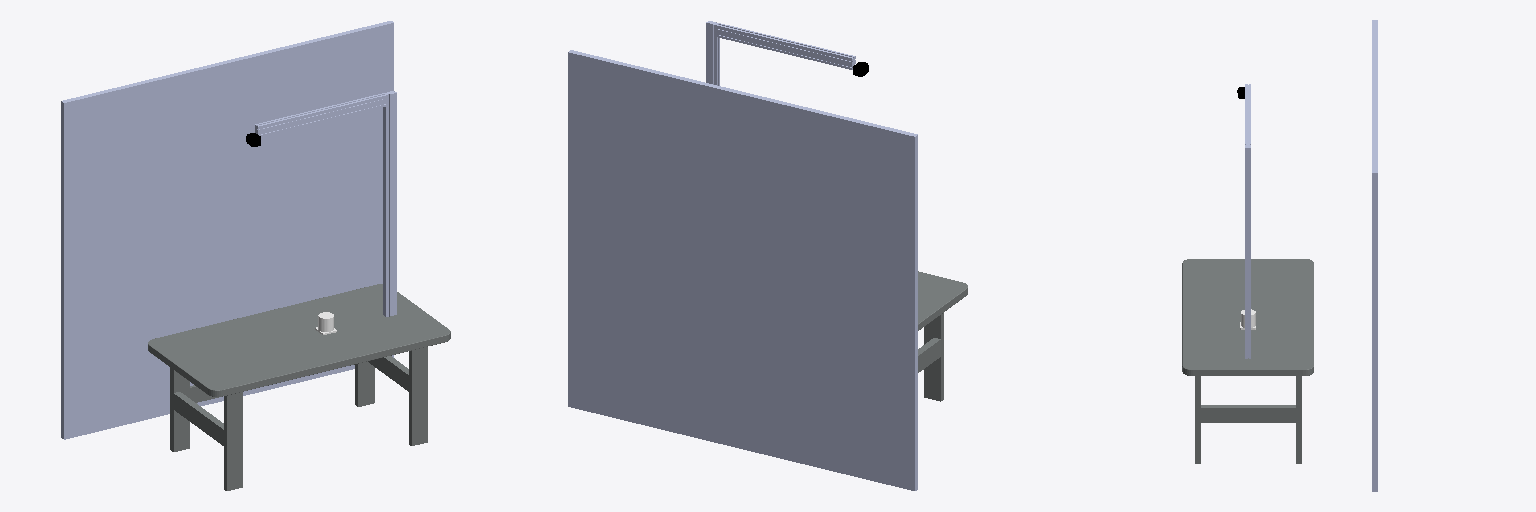
The robot description file, URDF, robot "stand_alone_arm":
<robot
  name="stand_alone_arm">
  
<link name="world" />

  <link
    name="base_link">
    <inertial>
      <origin
        xyz="3.33066907387547E-16 0.669683979678505 -0.0124306420707494"
        rpy="1.5708 0 0" />
      <mass
        value="858.041961090524" />
      <inertia
        ixx="95.273734367112"
        ixy="1.68979319427503E-13"
        ixz="9.07122406083939E-15"
        iyy="340.274147568561"
        iyz="3.19643307330068"
        izz="305.046621365407" />
    </inertial>
    <visual>
      <origin
        xyz="0 0 0"
        rpy="0 0 0" />
      <geometry>
        <mesh
          filename="package://fetch_description/meshes/table_link.DAE" />
      </geometry>
      <material
        name="">
        <color
          rgba="0.529411764705882 0.549019607843137 0.549019607843137 1" />
      </material>
    </visual>
    <collision>
      <origin
        xyz="0 0 0"
        rpy="0 0 0" />
      <geometry>
        <mesh
          filename="package://fetch_description/meshes/table_link.STL" />
      </geometry>
    </collision>
  </link>

  <joint
    name="table_joint"
    type="fixed">
    <origin
      xyz="0 0 0"
      rpy="1.5708 0 0" />
    <parent
      link="world" />
    <child
      link="base_link" />
    <axis
      xyz="0 0 0" />
  </joint>

  <link
    name="stand_alone_base_link">
    <inertial>
      <origin
        xyz="0 0 -0.105150405821854"
        rpy="0 0 0" />
      <mass
        value="2.63878043891333" />
      <inertia
        ixx="0.00472313159089556"
        ixy="6.11678055813915E-20"
        ixz="5.52853966202781E-19"
        iyy="0.00472313159089556"
        iyz="2.17976604623059E-19"
        izz="0.00382379229994236" />
    </inertial>
    <visual>
      <origin
        xyz="0 0 0"
        rpy="0 0 0" />
      <geometry>
        <mesh
          filename="package://fetch_description/meshes/stand_alone_base_link.STL" />
      </geometry>
      <material
        name="">
        <color
          rgba="1 1 1 1" />
      </material>
    </visual>
    <collision>
      <origin
        xyz="0 0 0"
        rpy="0 0 0" />
      <geometry>
        <mesh
          filename="package://fetch_description/meshes/stand_alone_base_link.STL" />
      </geometry>
    </collision>
  </link>

  <joint
    name="stand_alone_base_joint"
    type="fixed">
    <origin
      xyz="0.203950000000001 0 0.948"
      rpy="0 0 -1.5708" />
    <parent
      link="world" />
    <child
      link="stand_alone_base_link" />
    <axis
      xyz="0 0 0" />
  </joint>

 <link name="shoulder_pan_link">
    <inertial>
      <origin rpy="0.6737277 -030216635 0.04986231" xyz="0 0 0" />
      <mass value="2.5587" />
      <inertia ixx="0.0043" ixy="-0.0001" ixz="0.001" iyy="0.0087" iyz="-0.0001" izz="0.0087" />
    </inertial>
    <visual>
      <origin rpy="0 0 0" xyz="0 0 0" />
      <geometry>
        <mesh filename="package://fetch_description/meshes/shoulder_pan_link.dae" />
      </geometry>
      <material name="">
        <color rgba="1 1 1 1" />
      </material>
    </visual>
    <collision>
      <origin rpy="0 0 0" xyz="0 0 0" />
      <geometry>
        <mesh filename="package://fetch_description/meshes/shoulder_pan_link_collision.STL" />
      </geometry>
    </collision>
  </link>
  
<joint name="shoulder_pan_joint" type="revolute">
    <origin rpy="0 0 -1.5708" xyz="0 0 0" />
    <parent link="stand_alone_base_link" />
    <child link="shoulder_pan_link" />
    <axis xyz="0 0 1" />
    <dynamics damping="1.0" />
    <limit effort="33.82" lower="-1.6056" upper="1.6056" velocity="1.256" />
</joint>


 <link name="shoulder_lift_link">
    <inertial>
      <origin rpy="0 0 0" xyz="0.1432 0.0072 -0.0001" />
      <mass value="2.6615" />
      <inertia ixx="0.0028" ixy="-0.0021" ixz="-0.0" iyy="0.0111" iyz="-0.0" izz="0.0112" />
    </inertial>
    <visual>
      <origin rpy="0 0 0" xyz="0 0 0" />
      <geometry>
        <mesh filename="package://fetch_description/meshes/shoulder_lift_link.dae" />
      </geometry>
      <material name="">
        <color rgba="0.086 0.506 0.767 1" />
      </material>
    </visual>
    <collision>
      <origin rpy="0 0 0" xyz="0 0 0" />
      <geometry>
        <mesh filename="package://fetch_description/meshes/shoulder_lift_link_collision.STL" />
      </geometry>
    </collision>
  </link>

  <joint name="shoulder_lift_joint" type="revolute">
    <origin rpy="0 0 0" xyz="0.117 0 0.0599999999999999" />
    <parent link="shoulder_pan_link" />
    <child link="shoulder_lift_link" />
    <axis xyz="0 1 0" />
    <dynamics damping="1.0" />
    <limit effort="131.76" lower="-1.221" upper="1.518" velocity="1.454" />
  </joint>
  <link name="upperarm_roll_link">
    <inertial>
      <origin rpy="0 0 0" xyz="0.1165 0.0014 0.0000" />
      <mass value="2.3311" />
      <inertia ixx="0.0019" ixy="-0.0001" ixz="0.0" iyy="0.0045" iyz="0.0" izz="0.0047" />
    </inertial>
    <visual>
      <origin rpy="0 0 0" xyz="0 0 0" />
      <geometry>
        <mesh filename="package://fetch_description/meshes/upperarm_roll_link.dae" />
      </geometry>
      <material name="">
        <color rgba="1 1 1 1" />
      </material>
    </visual>
    <collision>
      <origin rpy="0 0 0" xyz="0 0 0" />
      <geometry>
        <mesh filename="package://fetch_description/meshes/upperarm_roll_link_collision.STL" />
      </geometry>
    </collision>
  </link>

  <joint name="upperarm_roll_joint" type="continuous">
    <origin rpy="0 0 0" xyz="0.219 0 0" />
    <parent link="shoulder_lift_link" />
    <child link="upperarm_roll_link" />
    <axis xyz="1 0 0" />
    <dynamics damping="5.0" />
    <limit effort="76.94" velocity="1.571" />
  </joint>

  <link name="elbow_flex_link">
    <inertial>
      <origin rpy="0 0 0" xyz="0.1279 0.0073 0.0000" />
      <mass value="2.1299" />
      <inertia ixx="0.0024" ixy="-0.0016" ixz="0.0" iyy="0.0082" iyz="-0.0" izz="0.0084" />
    </inertial>
    <visual>
      <origin rpy="0 0 0" xyz="0 0 0" />
      <geometry>
        <mesh filename="package://fetch_description/meshes/elbow_flex_link.dae" />
      </geometry>
      <material name="">
        <color rgba="0.086 0.506 0.767 1" />
      </material>
    </visual>
    <collision>
      <origin rpy="0 0 0" xyz="0 0 0" />
      <geometry>
        <mesh filename="package://fetch_description/meshes/elbow_flex_link_collision.STL" />
      </geometry>
    </collision>
  </link>

  <joint name="elbow_flex_joint" type="revolute">
    <origin rpy="0 0 0" xyz="0.133 0 0" />
    <parent link="upperarm_roll_link" />
    <child link="elbow_flex_link" />
    <axis xyz="0 1 0" />
    <dynamics damping="1.0" />
    <limit effort="66.18" lower="-2.251" upper="2.251" velocity="1.521" />
  </joint>

  <link name="forearm_roll_link">
    <inertial>
      <origin rpy="0 0 0" xyz="0.1097 -0.00 0.0000" />
      <mass value="1.6563" />
      <inertia ixx="0.0016" ixy="-0.0003" ixz="0.0" iyy="0.003" iyz="-0.0" izz="0.0035" />
    </inertial>
    <visual>
      <origin rpy="0 0 0" xyz="0 0 0" />
      <geometry>
        <mesh filename="package://fetch_description/meshes/forearm_roll_link.dae" />
      </geometry>
      <material name="">
        <color rgba="1 1 1 1" />
      </material>
    </visual>
    <collision>
      <origin rpy="0 0 0" xyz="0 0 0" />
      <geometry>
        <mesh filename="package://fetch_description/meshes/forearm_roll_link_collision.STL" />
      </geometry>
    </collision>
  </link>

  <joint name="forearm_roll_joint" type="continuous">
    <origin rpy="0 0 0" xyz="0.197 0 0" />
    <parent link="elbow_flex_link" />
    <child link="forearm_roll_link" />
    <axis xyz="1 0 0" />
    <dynamics damping="5.0" />
    <limit effort="29.35" velocity="1.571" />
  </joint>


  <link name="wrist_flex_link">
    <inertial>
      <origin rpy="0 0 0" xyz="0.0882 0.0009 -0.0001" />
      <mass value="1.725" />
      <inertia ixx="0.0018" ixy="-0.0001" ixz="-0.0" iyy="0.0042" iyz="0.0" izz="0.0042" />
    </inertial>
    <visual>
      <origin rpy="0 0 0" xyz="0 0 0" />
      <geometry>
        <mesh filename="package://fetch_description/meshes/wrist_flex_link.dae" />
      </geometry>
      <material name="">
        <color rgba="0.086 0.506 0.767 1" />
      </material>
    </visual>
    <collision>
      <origin rpy="0 0 0" xyz="0 0 0" />
      <geometry>
        <mesh filename="package://fetch_description/meshes/wrist_flex_link_collision.STL" />
      </geometry>
    </collision>
  </link>

  <joint name="wrist_flex_joint" type="revolute">
    <origin rpy="0 0 0" xyz="0.1245 0 0" />
    <parent link="forearm_roll_link" />
    <child link="wrist_flex_link" />
    <axis xyz="0 1 0" />
    <dynamics damping="1.0" />
    <limit effort="25.7" lower="-2.16" upper="2.16" velocity="2.268" />
  </joint>


  <link name="wrist_roll_link">
    <inertial>
      <origin rpy="0 0 0" xyz="0.0095 0.0004 -0.0002" />
      <mass value="0.1354" />
      <inertia ixx="0.0001" ixy="0.0" ixz="0.0" iyy="0.0001" iyz="0.0" izz="0.0001" />
    </inertial>
    <visual>
      <origin rpy="0 0 0" xyz="0 0 0" />
      <geometry>
        <mesh filename="package://fetch_description/meshes/wrist_roll_link.dae" />
      </geometry>
      <material name="">
        <color rgba="1 1 1 1" />
      </material>
    </visual>
    <collision>
      <origin rpy="0 0 0" xyz="0 0 0" />
      <geometry>
        <mesh filename="package://fetch_description/meshes/wrist_roll_link_collision.STL" />
      </geometry>
    </collision>
  </link>

  <joint name="wrist_roll_joint" type="continuous">
    <origin rpy="0 0 0" xyz="0.1385 0 0" />
    <parent link="wrist_flex_link" />
    <child link="wrist_roll_link" />
    <axis xyz="1 0 0" />
    <limit effort="7.36" velocity="2.268" />
    <dynamics damping="5.0" />
  </joint>


  <link name="gripper_link">
    <inertial>
      <origin rpy="0 0 0" xyz="-0.0900 -0.0001 -0.0017" />
      <mass value="1.5175" />
      <inertia ixx="0.0013" ixy="-0.0" ixz="0.0" iyy="0.0019" iyz="-0.0" izz="0.0024" />
    </inertial>
    <visual>
      <origin rpy="0 0 0" xyz="0 0 0" />
      <geometry>
        <mesh filename="package://fetch_description/meshes/gripper_link.dae" />
      </geometry>
    </visual>
    <collision>
      <origin rpy="0 0 0" xyz="0 0 0" />
      <geometry>
        <mesh filename="package://fetch_description/meshes/gripper_link.STL" />
      </geometry>
    </collision>
  </link>
  <joint name="gripper_axis" type="fixed">
    <origin rpy="0 0 0" xyz="0.16645 0 0" />
    <parent link="wrist_roll_link" />
    <child link="gripper_link" />
    <axis xyz="0 1 0" />

  </joint>
  <link name="r_gripper_finger_link">
    <inertial>
      <origin rpy="0 0 0" xyz="-0.01 0 0" />
      <mass value="0.0798" />
      <inertia ixx="0.002" ixy="0" ixz="0" iyy="0" iyz="0" izz="0" />
    </inertial>
    <visual>
      <origin rpy="0 0 0" xyz="0 0.101425 0" />
      <geometry>
        <mesh filename="package://fetch_description/meshes/r_gripper_finger_link.STL" />
      </geometry>
      <material name="">
        <color rgba="0.356 0.361 0.376 1" />
      </material>
    </visual>
    <collision>
      <origin rpy="0 0 0" xyz="0 0.101425 0" />
      <geometry>
        <mesh filename="package://fetch_description/meshes/r_gripper_finger_link.STL" />
      </geometry>
    </collision>
  </link>
  <joint name="r_gripper_finger_joint" type="prismatic">
    <origin rpy="0 0 0" xyz="0 0.015425 0" />
    <parent link="gripper_link" />
    <child link="r_gripper_finger_link" />
    <axis xyz="0 1 0" />
  <limit effort="60" lower="0.0" upper="0.05" velocity="0.05" /><dynamics damping="100.0" />
  </joint>

  <link name="l_gripper_finger_link">
    <inertial>
      <origin rpy="0 0 0" xyz="-0.01 0 0" />
      <mass value="0.0798" />
      <inertia ixx="0.002" ixy="0" ixz="0" iyy="0" iyz="0" izz="0" />
    </inertial>
    <visual>
      <origin rpy="0 0 0" xyz="0 -0.101425 0" />
      <geometry>
        <mesh filename="package://fetch_description/meshes/l_gripper_finger_link.STL" />
      </geometry>
      <material name="">
        <color rgba="0.356 0.361 0.376 1" />
      </material>
    </visual>
    <collision>
      <origin rpy="0 0 0" xyz="0 -0.101425 0" />
      <geometry>
        <mesh filename="package://fetch_description/meshes/l_gripper_finger_link.STL" />
      </geometry>
    </collision>
  </link>
  <joint name="l_gripper_finger_joint" type="prismatic">
    <origin rpy="0 0 0" xyz="0 -0.015425 0" />
    <parent link="gripper_link" />
    <child link="l_gripper_finger_link" />
    <axis xyz="0 -1 0" />
  <limit effort="60" lower="0.0" upper="0.05" velocity="0.05" /><dynamics damping="100.0" />
   </joint>

  <link
    name="gantry_link">
    <inertial>
      <origin
        xyz="1.38777878078145E-17 1.09321662265258 0.198951164372599"
        rpy="0 0 0" />
      <mass
        value="7.4976" />
      <inertia
        ixx="2.75442106479115"
        ixy="9.90440054718383E-17"
        ixz="3.9473035636081E-17"
        iyy="0.717328512218835"
        iyz="0.709705248466385"
        izz="2.03897463257232" />
    </inertial>
    <visual>
      <origin
        xyz="0 0 0"
        rpy="0 0 0" />
      <geometry>
        <mesh
          filename="package://fetch_description/meshes/gantry_link.STL" />
      </geometry>
      <material
        name="">
        <color
          rgba="0.792156862745098 0.819607843137255 0.933333333333333 1" />
      </material>
    </visual>
    <collision>
      <origin
        xyz="0 0 0"
        rpy="0 0 0" />
      <geometry>
        <mesh
          filename="package://fetch_description/meshes/gantry_link.STL" />
      </geometry>
    </collision>
  </link>
  <joint
    name="gantry_joint"
    type="fixed">
    <origin
      xyz="0.688950000000001 0.79 0"
      rpy="0 -1.5708 0" />
    <parent
      link="base_link" />
    <child
      link="gantry_link" />
    <axis
      xyz="0 0 0" />
  </joint>
  <link
    name="camera_link">
    <inertial>
      <origin
        xyz="-0.000145676872565954 0.0286871507440698 0.000951150405185119"
        rpy="0 0 0" />
      <mass
        value="0.355265785482826" />
      <inertia
        ixx="0.000326426184711212"
        ixy="-2.44193073100511E-06"
        ixz="4.82333863656688E-08"
        iyy="0.000260785095247953"
        iyz="-1.01246164864081E-06"
        izz="0.000308498594625202" />
    </inertial>
    <visual>
      <origin
        xyz="0 0 0"
        rpy="0 0 0" />
      <geometry>
        <mesh
          filename="package://fetch_description/meshes/camera.DAE" />
      </geometry>
      <material
        name="">
        <color
          rgba="0 0 0 1" />
      </material>
    </visual>
    <collision>
      <origin
        xyz="0 0 0"
        rpy="0 0 0" />
      <geometry>
        <mesh
          filename="package://fetch_description/meshes/camera_link.STL" />
      </geometry>
    </collision>
  </link>
  <joint
    name="camera_joint"
    type="fixed">
    <origin
      xyz="0 1.5233 1.049"
      rpy="0 0 -1.570" />
    <parent
      link="gantry_link" />
    <child
      link="camera_link" />
    <axis
      xyz="0 0 0" />
  </joint>

  <link name="camera_optical_link" />
  <joint name="camera_optical_joint" type="fixed">
    <origin rpy="0 0 -1.570" xyz="-0.00 -0.0093 -.0" />
    <parent link="camera_link" />
    <child link="camera_optical_link" />
  </joint>

  <link name="camera_rgb_frame" />
  <joint name="camera_rgb_joint" type="fixed">
    <origin rpy="0 0 0" xyz="0 -0.0093 0" />
    <parent link="camera_link" />
    <child link="camera_rgb_frame" />
  </joint>
  <link name="camera_rgb_optical_frame" />
  <joint name="camera_rgb_optical_joint" type="fixed">
    <origin rpy="0 0 0" xyz="0 -0.0093 0" />
    <parent link="camera_link" />
    <child link="camera_rgb_optical_frame" />
  </joint>
  <link name="camera_depth_frame" />
  <joint name="camera_depth_joint" type="fixed">
    <origin rpy="0 0 0" xyz="0 -0.0093 0" />
    <parent link="camera_link" />
    <child link="camera_depth_frame" />
  </joint>
  <link name="camera_depth_optical_frame" />
  <joint name="camera_depth_optical_joint" type="fixed">
    <origin rpy="0 0 0" xyz="0 -0.0093 0" />
    <parent link="camera_link" />
    <child link="camera_depth_optical_frame" />
  </joint>



   <link
    name="wall_link">
    <inertial>
      <origin
        xyz="-2.22044604925031E-16 1.2192 0"
        rpy="0 0 0" />
      <mass
        value="243.839999999999" />
      <inertia
        ixx="120.8510574592"
        ixy="1.71905156776115E-15"
        ixz="-1.65907426685763E-14"
        iyy="127.032512"
        iyz="7.22801448323673E-17"
        izz="247.818545459199" />
    </inertial>
    <visual>
      <origin
        xyz="0 0 0"
        rpy="0 0 0" />
      <geometry>
        <mesh
          filename="package://fetch_description/meshes/wall_link.DAE" />
      </geometry>
      <material
        name="">
        <color
          rgba="0.792156862745098 0.819607843137255 0.933333333333333 1" />
      </material>
    </visual>
    <collision>
      <origin
        xyz="0 0 0"
        rpy="0 0 0" />
      <geometry>
        <mesh
          filename="package://fetch_description/meshes/wall_link.STL" />
      </geometry>
    </collision>
  </link>
  <joint
    name="wall_joint"
    type="fixed">
    <origin
      xyz="-0.034999999999999 0 -0.8775"
      rpy="0 0 0" />
    <parent
      link="base_link" />
    <child
      link="wall_link" />
    <axis
      xyz="0 0 0" />
  </joint>
</robot>
  

--- What the picture shows (computed from the rendered views, not written in the file) ---
The picture shows the robot from 3 angles, left to right: view 1: azimuth 30°, elevation 25°; view 2: azimuth 150°, elevation 25°; view 3: azimuth 270°, elevation 25°; orthographic projection.
Robot: stand_alone_arm — 21 links, 20 joints (4 revolute, 3 continuous, 2 prismatic, 11 fixed); root link world; default pose: every joint at zero.
Links seen in each view (by area): view 1: wall_link, base_link, gantry_link; view 2: wall_link, base_link, gantry_link; view 3: base_link, wall_link, gantry_link.
Boxes of the visible links, x1=… form: wall_link: x1=61, y1=21, x2=393, y2=439; base_link: x1=148, y1=284, x2=450, y2=490; gantry_link: x1=255, y1=91, x2=396, y2=316; wall_link: x1=568, y1=50, x2=917, y2=490; base_link: x1=918, y1=271, x2=967, y2=401; gantry_link: x1=706, y1=21, x2=855, y2=85; base_link: x1=1182, y1=259, x2=1313, y2=463; wall_link: x1=1372, y1=20, x2=1377, y2=491; gantry_link: x1=1245, y1=84, x2=1250, y2=358.
Bounding box of the posed robot: 2.5 × 1.35 × 2.44 m (x, y, z).
5 mesh visuals loaded from 15 distinct referenced files (2 binary STL, 3 Collada DAE); not drawn: 10 (reference not matched to a file when rendering).